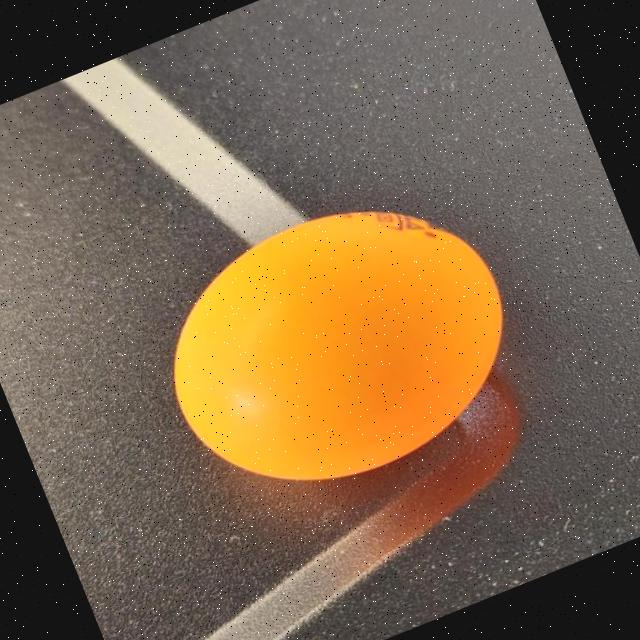ping-pong-ball: (124, 151, 562, 536)
